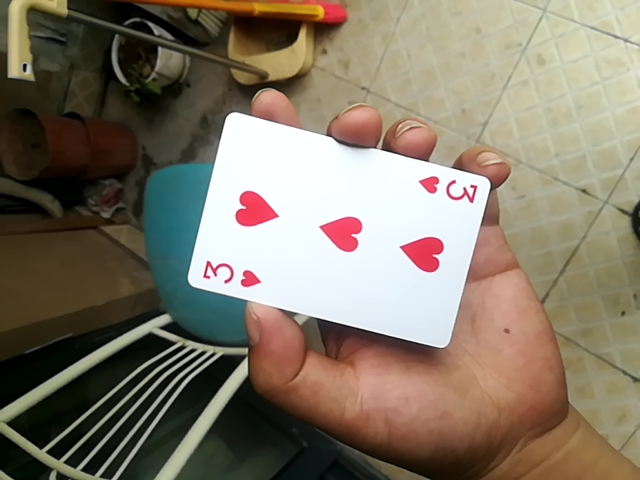hx 3: (177, 115, 495, 351)
